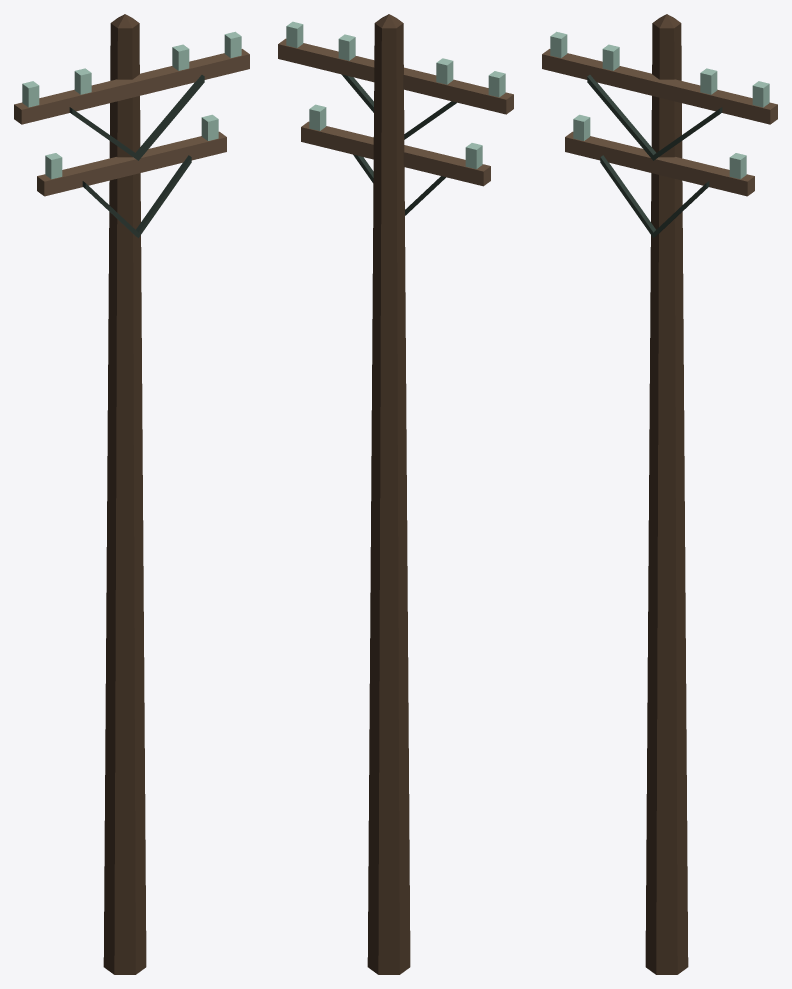
Rendered from telegraphpole.glb.
3 renders of one model, left to right at view 1: azimuth 30°, elevation 25°; view 2: azimuth 150°, elevation 25°; view 3: azimuth 330°, elevation 25°, orthographic.
Visible parts, largest first — view 1: telegraphpole; view 2: telegraphpole; view 3: telegraphpole.
Part boxes in pixels (box(x1,y1,x2,y2)): telegraphpole: box(14, 14, 249, 974); telegraphpole: box(278, 14, 513, 974); telegraphpole: box(542, 14, 777, 974).
Bounding box in the file's own units: 2.1 × 8.38 × 0.385.
